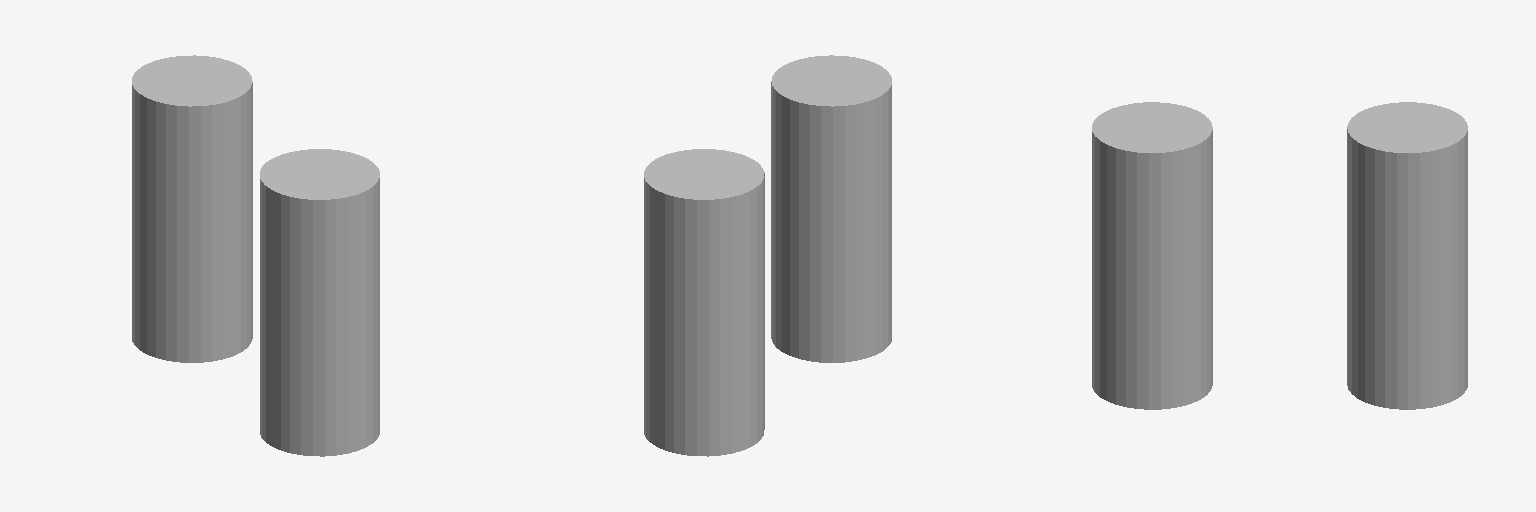
Rendered from cans2.obj.
3 renders of one model, left to right at view 1: azimuth 30°, elevation 25°; view 2: azimuth 150°, elevation 25°; view 3: azimuth 270°, elevation 25°, orthographic.
Visible parts, largest first — view 1: Bake; view 2: Bake; view 3: Bake.
Boxes of the visible parts, <box> form: Bake: <box>132,55,379,456</box>; Bake: <box>644,55,891,456</box>; Bake: <box>1092,102,1467,409</box>.
Bounding box in the file's own units: 0.9454 × 2.21 × 2.94.